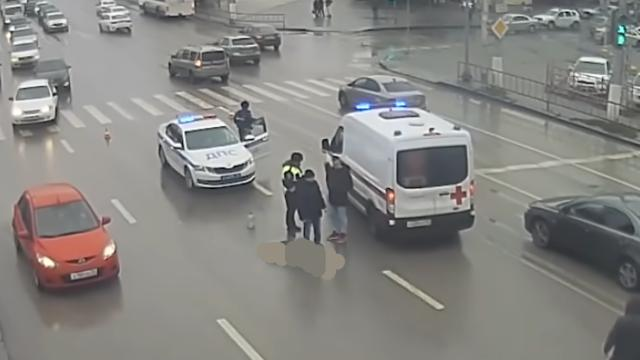ambulance: (332, 102, 478, 240)
non emergency car: (526, 184, 639, 292), (15, 184, 122, 293), (340, 73, 428, 116), (167, 45, 230, 86), (12, 80, 58, 129), (570, 56, 611, 100), (215, 36, 261, 67), (533, 5, 582, 31), (244, 23, 282, 54), (35, 57, 69, 90), (488, 13, 541, 34), (13, 41, 40, 70), (99, 14, 135, 35), (41, 13, 70, 36), (139, 3, 196, 14)
police car: (157, 111, 258, 191)
